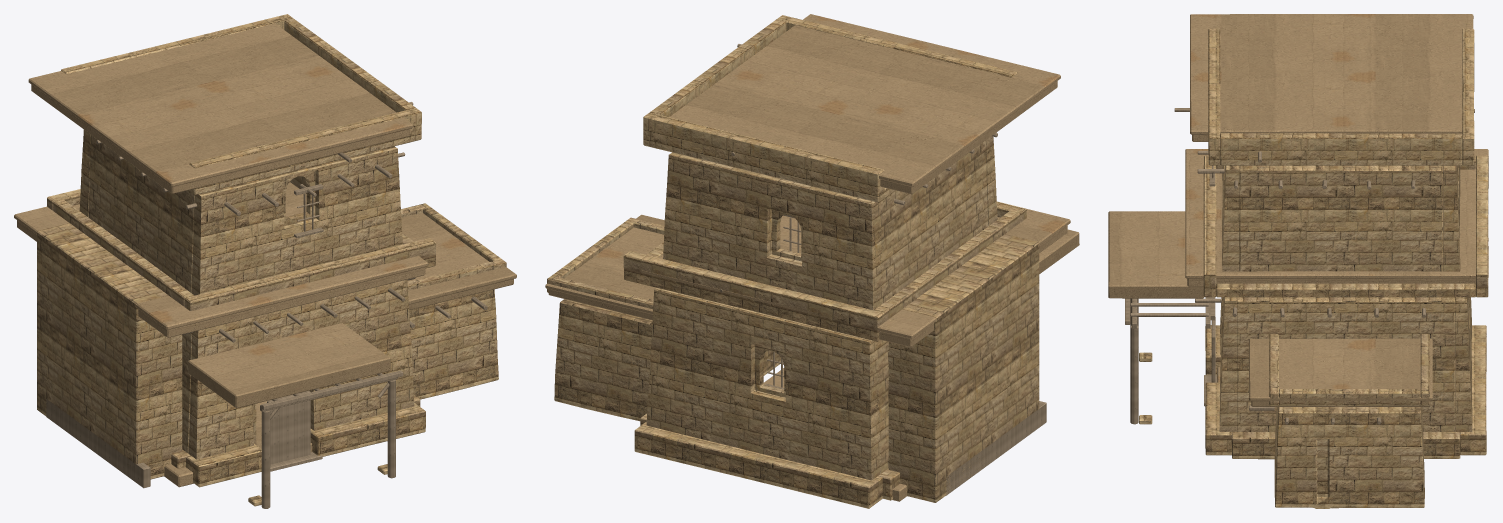
3 renders of one model, left to right at view 1: azimuth 30°, elevation 25°; view 2: azimuth 150°, elevation 25°; view 3: azimuth 270°, elevation 25°, orthographic. The views are drawn at different scales.
Parts seen in each view (by area): view 1: house; view 2: house; view 3: house.
Part boxes in pixels (<box>): house: <box>14,14,516,508</box>; house: <box>545,14,1079,508</box>; house: <box>1108,14,1488,508</box>.
Bounding box in the file's own units: 10.21 × 8.18 × 8.88.
3 materials, 3 textured.
